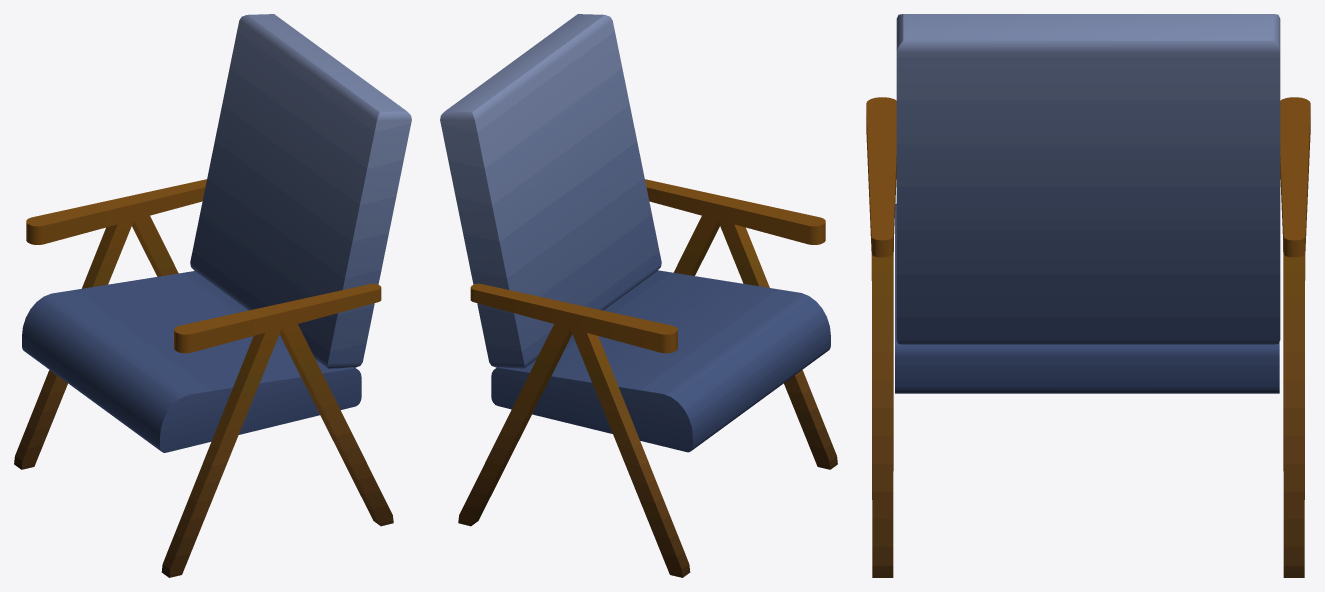
File: armchair.fbx
3 views of the same model, side by side, from view 1: azimuth 30°, elevation 25°; view 2: azimuth 150°, elevation 25°; view 3: azimuth 270°, elevation 25° (orthographic). The views are drawn at different scales.
Visible parts, largest first — view 1: armchair; view 2: armchair; view 3: armchair.
Boxes of the visible parts, bbox=[...] form: armchair: bbox=[14, 14, 411, 577]; armchair: bbox=[440, 14, 837, 577]; armchair: bbox=[866, 14, 1310, 577].
Size of the model in its own units: 120 by 184 by 132.
